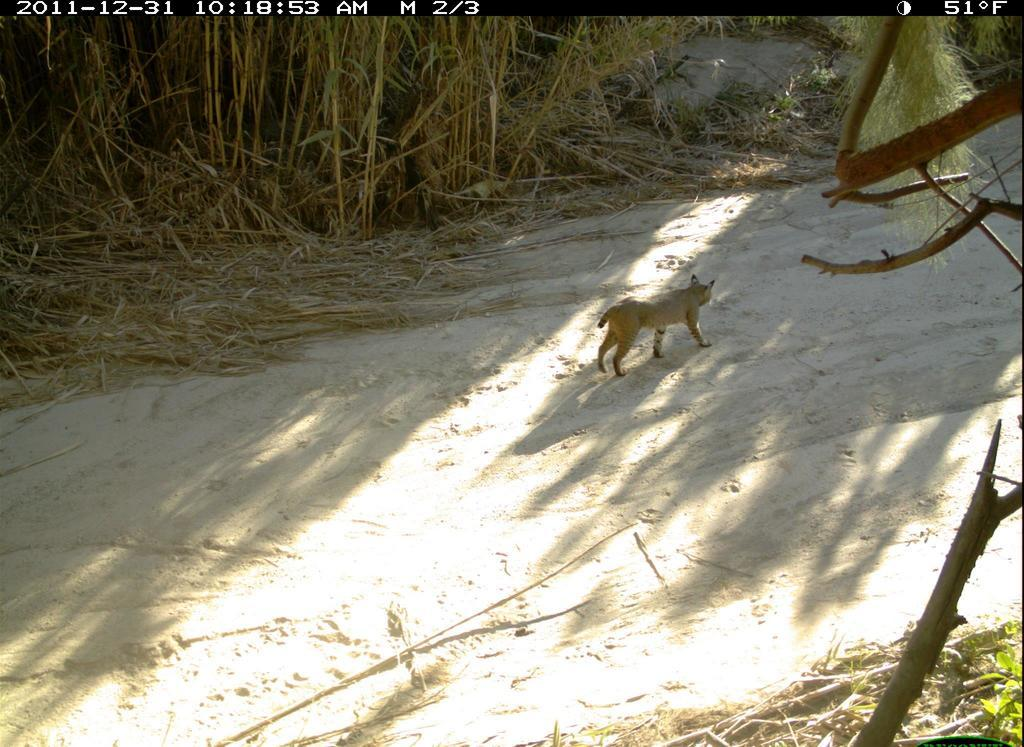bobcat: (592, 271, 724, 388)
